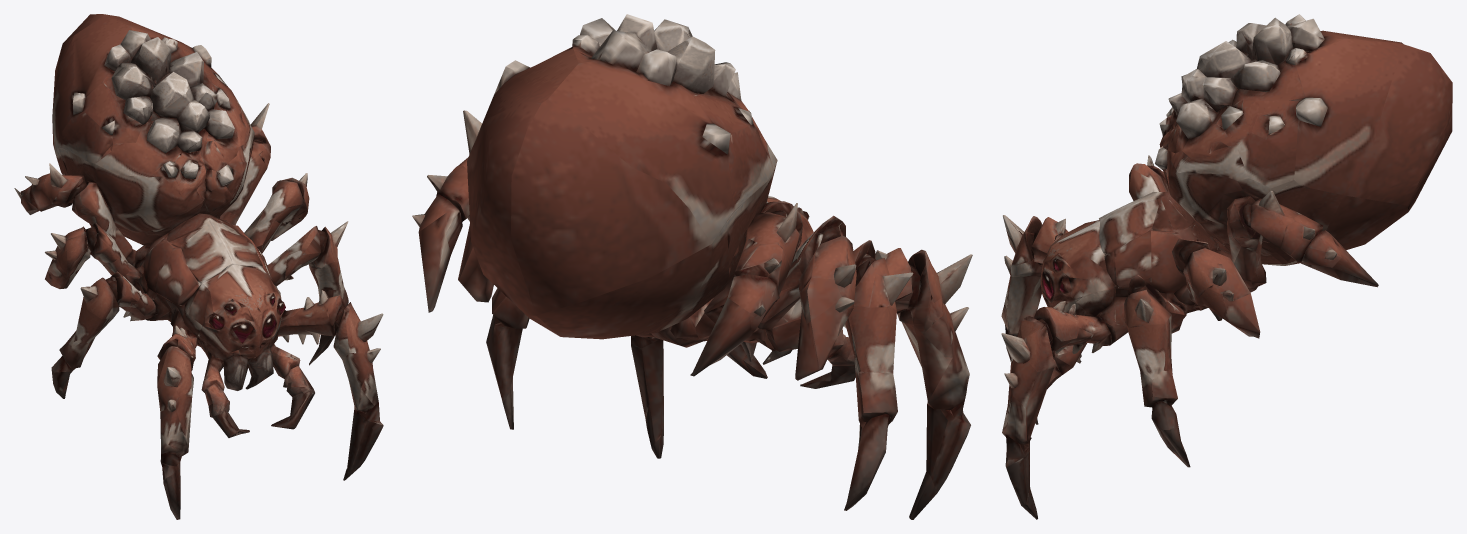
Rendered from brood_hunter.glb.
The picture shows the model from 3 angles, left to right: view 1: azimuth 30°, elevation 25°; view 2: azimuth 150°, elevation 25°; view 3: azimuth 270°, elevation 25°; orthographic projection. The views are drawn at different scales.
Visible parts, largest first — view 1: Mesh_0; view 2: Mesh_0; view 3: Mesh_0.
Boxes of the visible parts, x1=… form: Mesh_0: x1=14, y1=14, x2=383, y2=519; Mesh_0: x1=412, y1=14, x2=972, y2=519; Mesh_0: x1=1001, y1=14, x2=1452, y2=519.
Size of the model in its own units: 1.42 by 1.9 by 1.73.
Materials: 1 (1 with a texture image).
